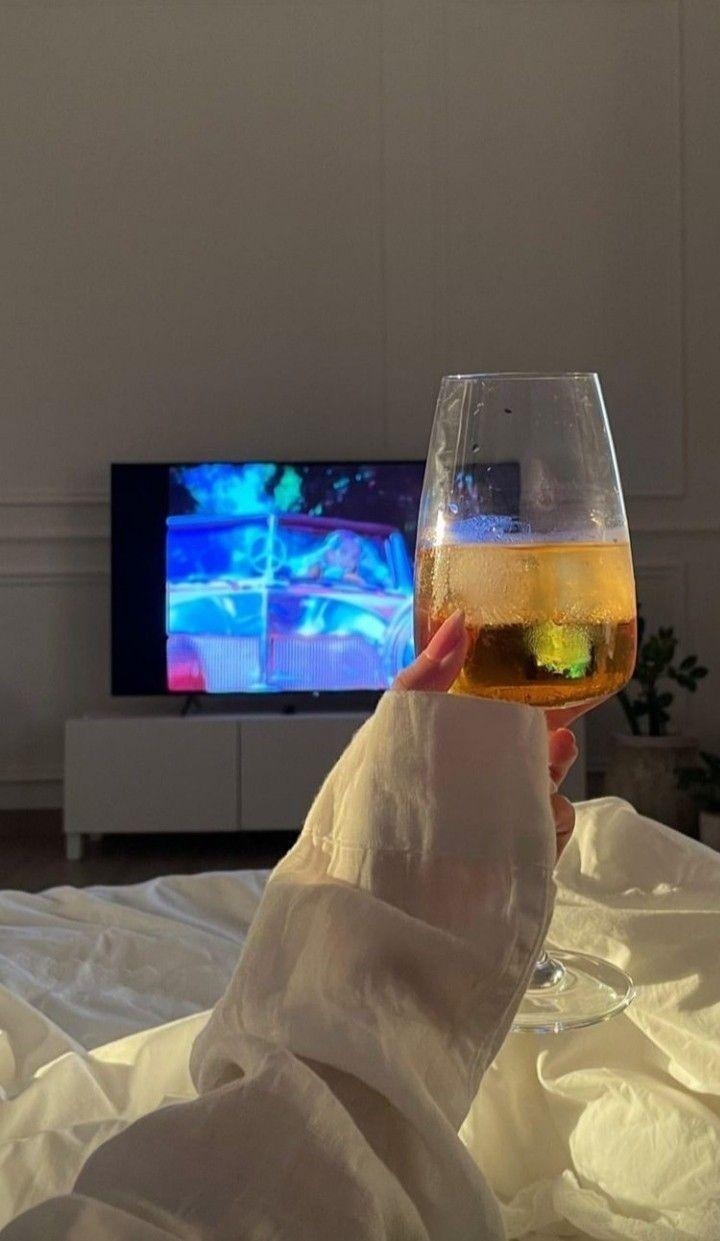glass-wine: (408, 363, 653, 1035)
